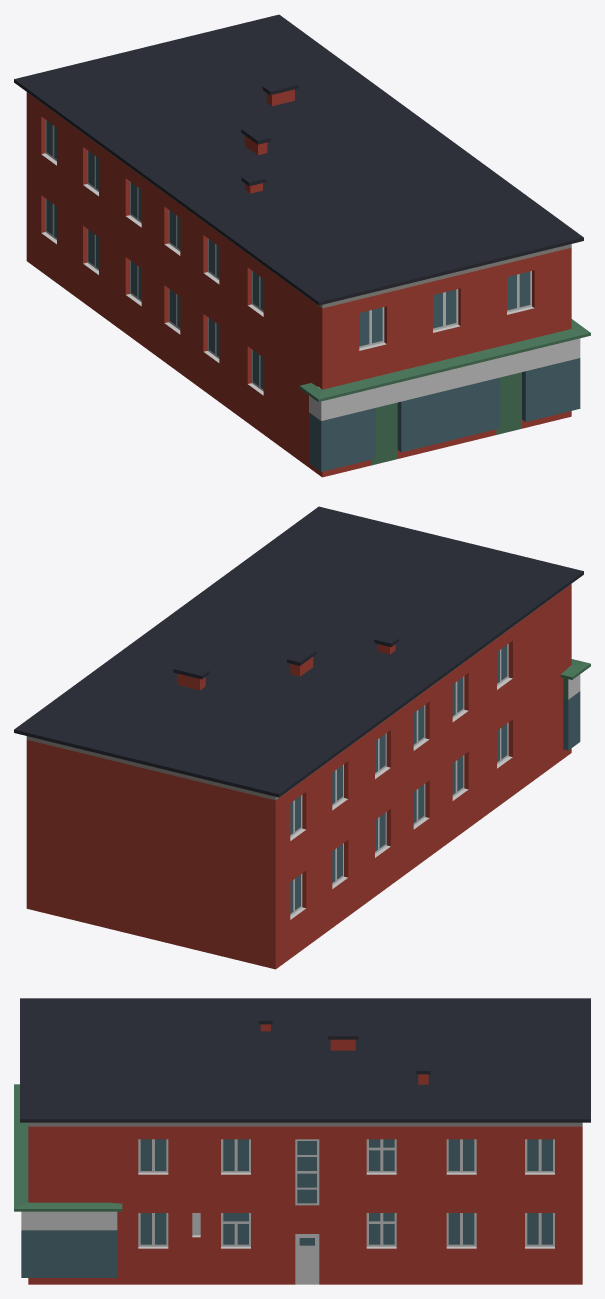
The model's file is house_bata_04.fbx.
The picture shows the model from 3 angles, top to bottom: view 1: azimuth 30°, elevation 25°; view 2: azimuth 150°, elevation 25°; view 3: azimuth 270°, elevation 25°; orthographic projection. The views are drawn at different scales.
Parts seen in each view (by area): view 1: house_bata_04; view 2: house_bata_04; view 3: house_bata_04.
Boxes of the visible parts, x1=… form: house_bata_04: x1=14, y1=14, x2=590, y2=477; house_bata_04: x1=14, y1=506, x2=590, y2=969; house_bata_04: x1=14, y1=998, x2=590, y2=1284.
Bounding box in the file's own units: 1109 × 763 × 2170.
